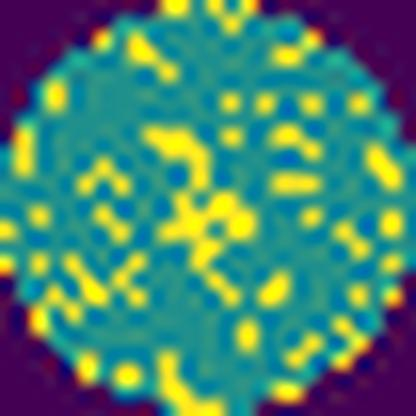Center: (143, 117, 257, 304)
